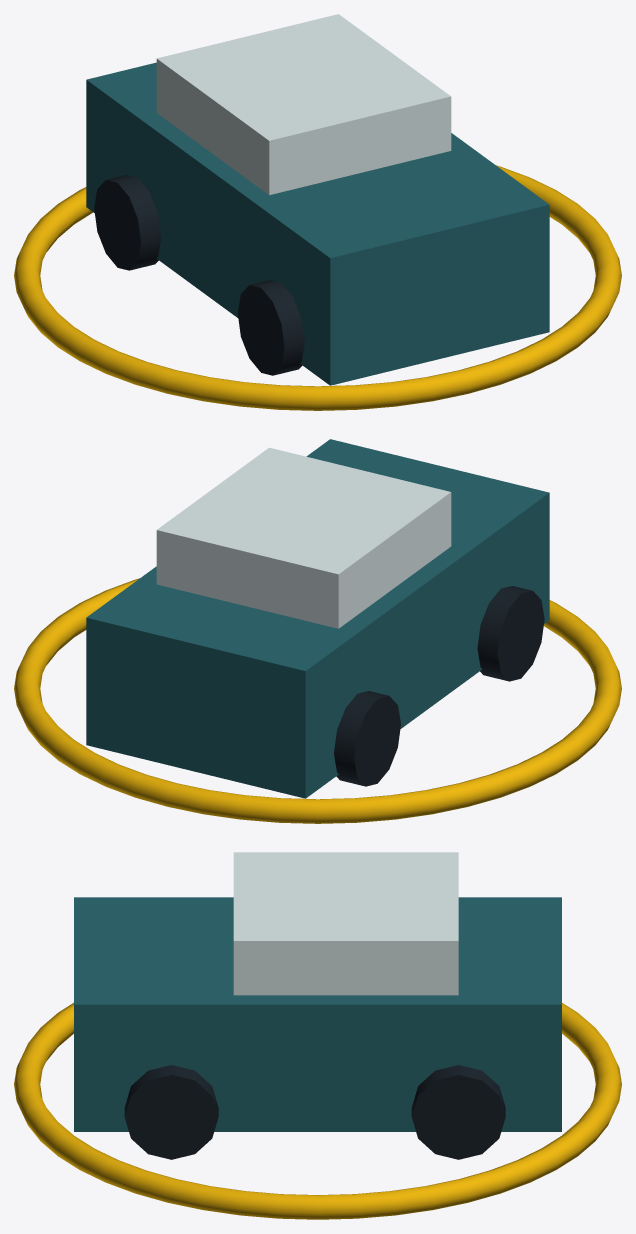
The model's file is car-caution.glb.
3 renders of one model, top to bottom at view 1: azimuth 30°, elevation 25°; view 2: azimuth 150°, elevation 25°; view 3: azimuth 270°, elevation 25°, orthographic.
Size of the model in its own units: 3.24 by 1.17 by 3.24.
